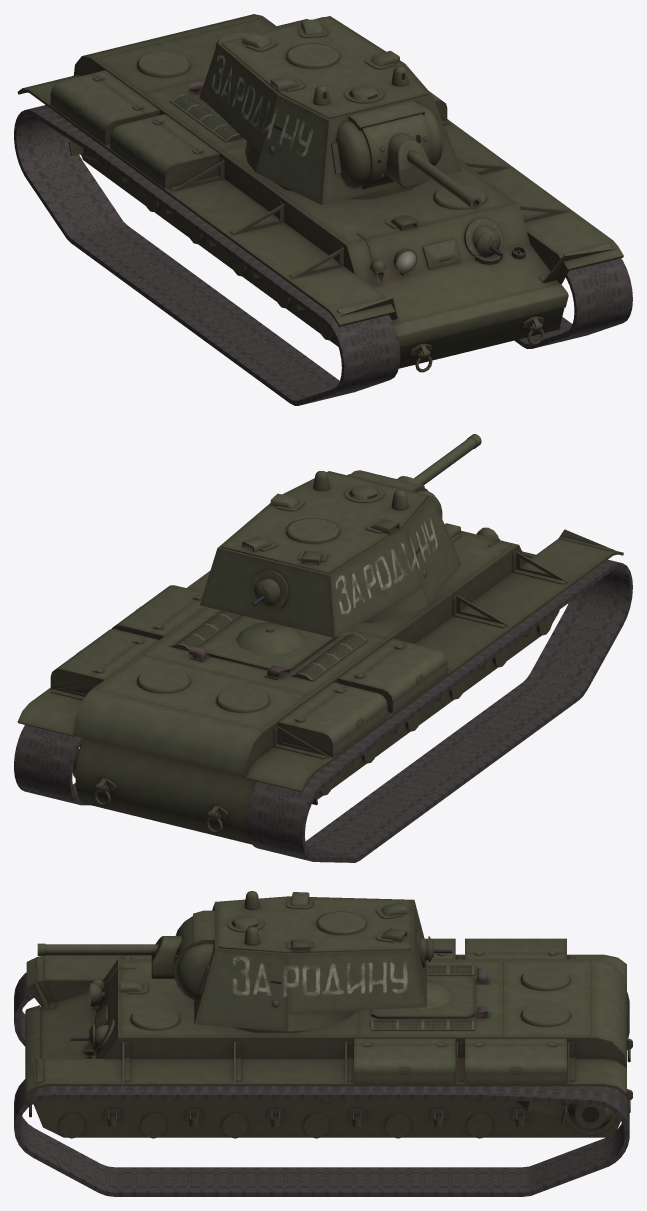
3 views of the same model, one above another, from view 1: azimuth 30°, elevation 25°; view 2: azimuth 150°, elevation 25°; view 3: azimuth 270°, elevation 25° (orthographic). The views are drawn at different scales.
Parts seen in each view (by area): view 1: KV-I_Body, KV-I_ScrollTrack_R, KV-I_Turret, KV-I_ScrollTrack_L, KV-I_Cannon, KV-I_Barrel; view 2: KV-I_Body, KV-I_Turret, KV-I_ScrollTrack_R, KV-I_ScrollTrack_L, KV-I_Barrel; view 3: KV-I_Body, KV-I_Turret, KV-I_ScrollTrack_L, KV-I_Cannon, KV-I_Barrel, KV-I_ScrollTrack_R.
Part boxes in pixels (<box>): KV-I_Body: <box>17,14,623,372</box>; KV-I_ScrollTrack_R: <box>14,105,400,405</box>; KV-I_Turret: <box>200,16,461,205</box>; KV-I_ScrollTrack_L: <box>514,258,632,348</box>; KV-I_Cannon: <box>361,113,432,189</box>; KV-I_Barrel: <box>407,151,481,209</box>; KV-I_Body: <box>17,523,623,844</box>; KV-I_Turret: <box>200,470,461,637</box>; KV-I_ScrollTrack_R: <box>246,559,632,862</box>; KV-I_ScrollTrack_L: <box>14,725,89,805</box>; KV-I_Barrel: <box>414,434,481,485</box>; KV-I_Body: <box>25,938,632,1138</box>; KV-I_Turret: <box>177,891,452,1031</box>; KV-I_ScrollTrack_L: <box>14,1078,629,1196</box>; KV-I_Cannon: <box>151,916,193,994</box>; KV-I_Barrel: <box>37,943,158,955</box>; KV-I_ScrollTrack_R: <box>14,972,629,1046</box>.
Size of what is drawn, in the model's own units: 335 by 264 by 668.
